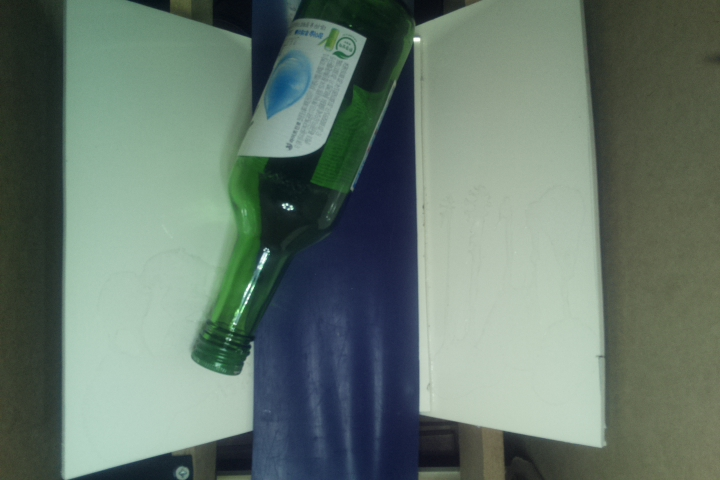soju: (187, 1, 420, 376)
